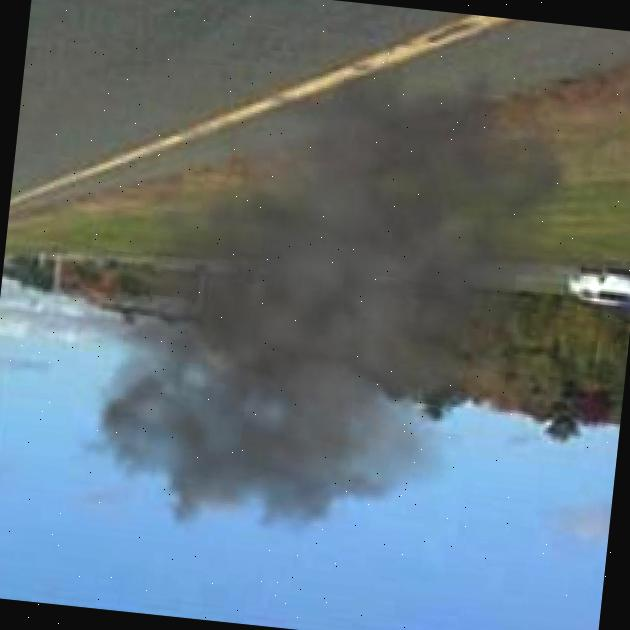smoke: (45, 0, 620, 602)
